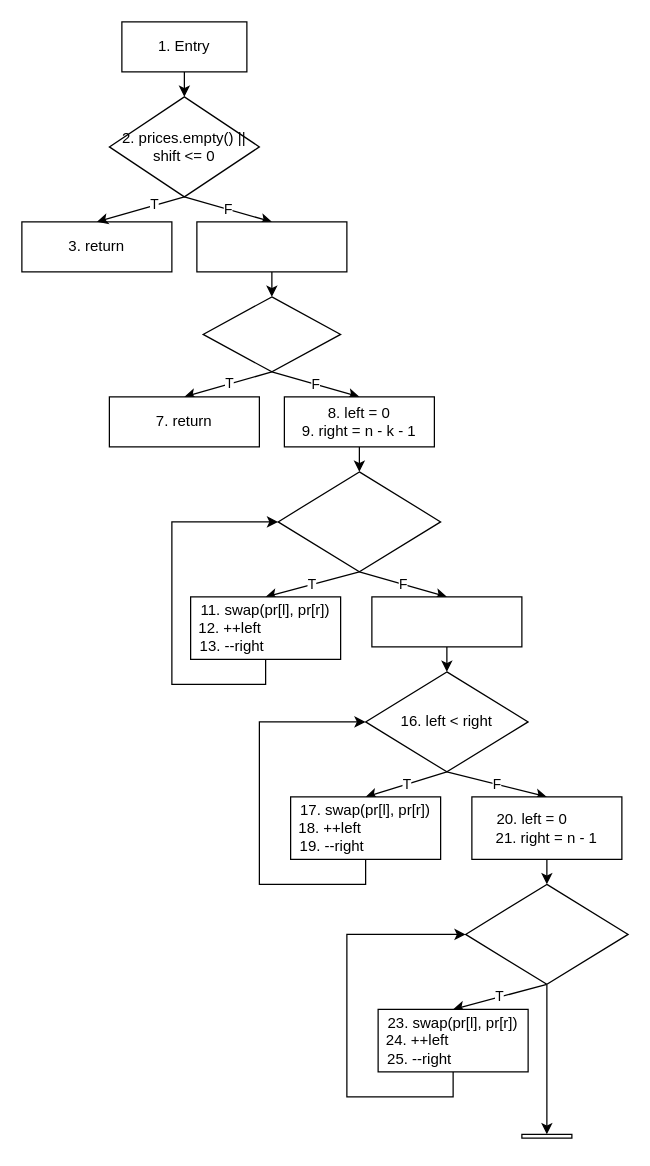
Image size: 650x1166. Some labels were removed from this diagram. Each missing label, with the centre of its shape:
"10. left < right" goes at (359,521).
"14. left = n - k 15. right = n - 1" goes at (446,621).
"22. left < right" goes at (546,933).
"4. n = prices.size() 5. k = static_cast..." goes at (271,246).
"6. k == 0" goes at (271,334).
